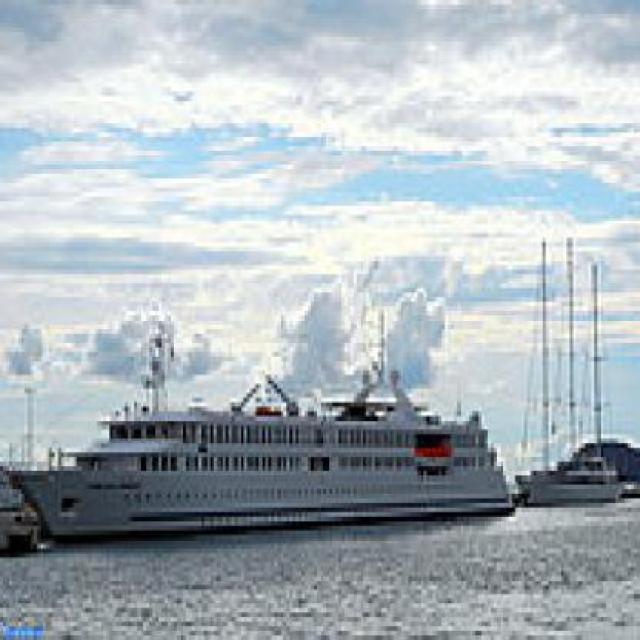cruise: (17, 357, 526, 550)
